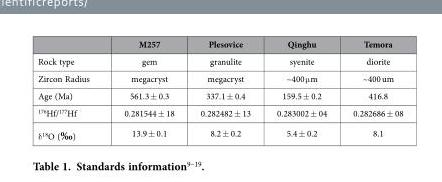table: (37, 37, 402, 142)
table column: (106, 37, 186, 142), (186, 37, 263, 142), (263, 37, 339, 142), (37, 37, 106, 142), (339, 37, 402, 142)
table column header: (37, 37, 402, 52)
table row: (37, 122, 402, 142), (37, 86, 402, 104), (37, 104, 402, 122), (37, 52, 402, 69), (37, 69, 402, 86), (37, 37, 402, 52)
